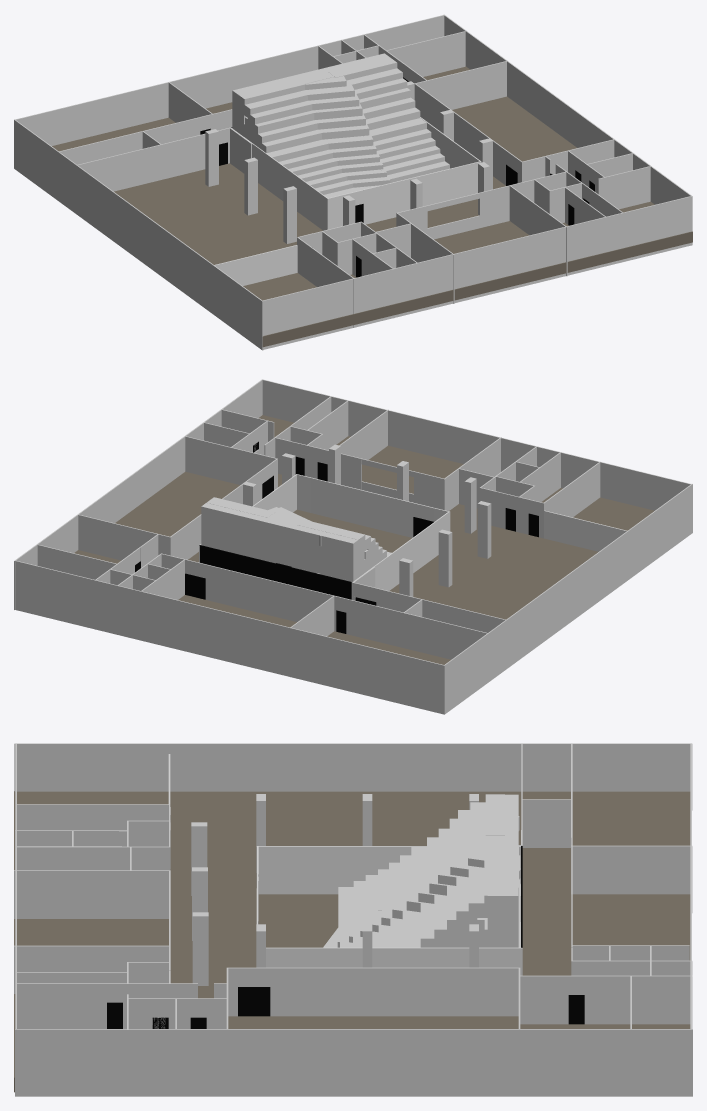
The model's file is Canteen floor.fbx.
The picture shows the model from 3 angles, top to bottom: view 1: azimuth 30°, elevation 25°; view 2: azimuth 150°, elevation 25°; view 3: azimuth 270°, elevation 25°; orthographic projection. The views are drawn at different scales.
Parts seen in each view (by area): view 1: Cube.001, Cube.094, Cube.116, Cube.115, Cube.117, Cube.130, Cube.138, Cube.132, Cube.142, Cube.125, Cube.097, Cube.084 (+42 smaller); view 2: Cube.115, Cube.001, Cube.116, Cube.094, Cube.207, Cube.117, Cube.132, Cube.136, Cube.118, Cube.138, Cube.130, Cube.142 (+27 smaller); view 3: Cube.001, Cube.117, Cube.116, Cube.125, Cube.131, Cube.098, Cube.207, Cube.144, Cube.137, Cube.135, Cube.028, Cube.027 (+52 smaller).
Part boxes in pixels (x1,y1,x2,y2): Cube.001: (52,66,692,347); Cube.094: (262,196,691,349); Cube.116: (14,119,263,350); Cube.115: (14,15,444,145); Cube.117: (443,14,692,245); Cube.130: (77,133,205,191); Cube.138: (415,61,507,109); Cube.132: (58,117,200,164); Cube.142: (386,31,465,76); Cube.125: (414,83,506,185); Cube.097: (598,166,651,209); Cube.084: (355,268,394,327); Cube.115: (14,560,444,714); Cube.001: (74,415,654,664); Cube.116: (443,484,692,714); Cube.094: (262,379,691,510); Cube.207: (201,503,364,581); Cube.117: (14,379,262,609); Cube.132: (346,599,487,659); Cube.136: (205,564,335,631); Cube.118: (184,436,277,484); Cube.138: (78,514,169,560); Cube.130: (376,588,505,632); Cube.142: (37,544,116,579); Cube.001: (14,791,690,1092); Cube.117: (15,1029,692,1096); Cube.116: (14,743,692,810); Cube.125: (270,967,519,1016); Cube.131: (571,845,692,912); Cube.098: (15,983,106,1028); Cube.207: (487,794,518,947); Cube.144: (632,975,692,1028); Cube.137: (520,975,568,1024); Cube.135: (521,799,570,847); Cube.028: (25,870,73,918); Cube.027: (73,870,121,918).
Bounding box in the file's own units: 8408 × 1623 × 8412.
